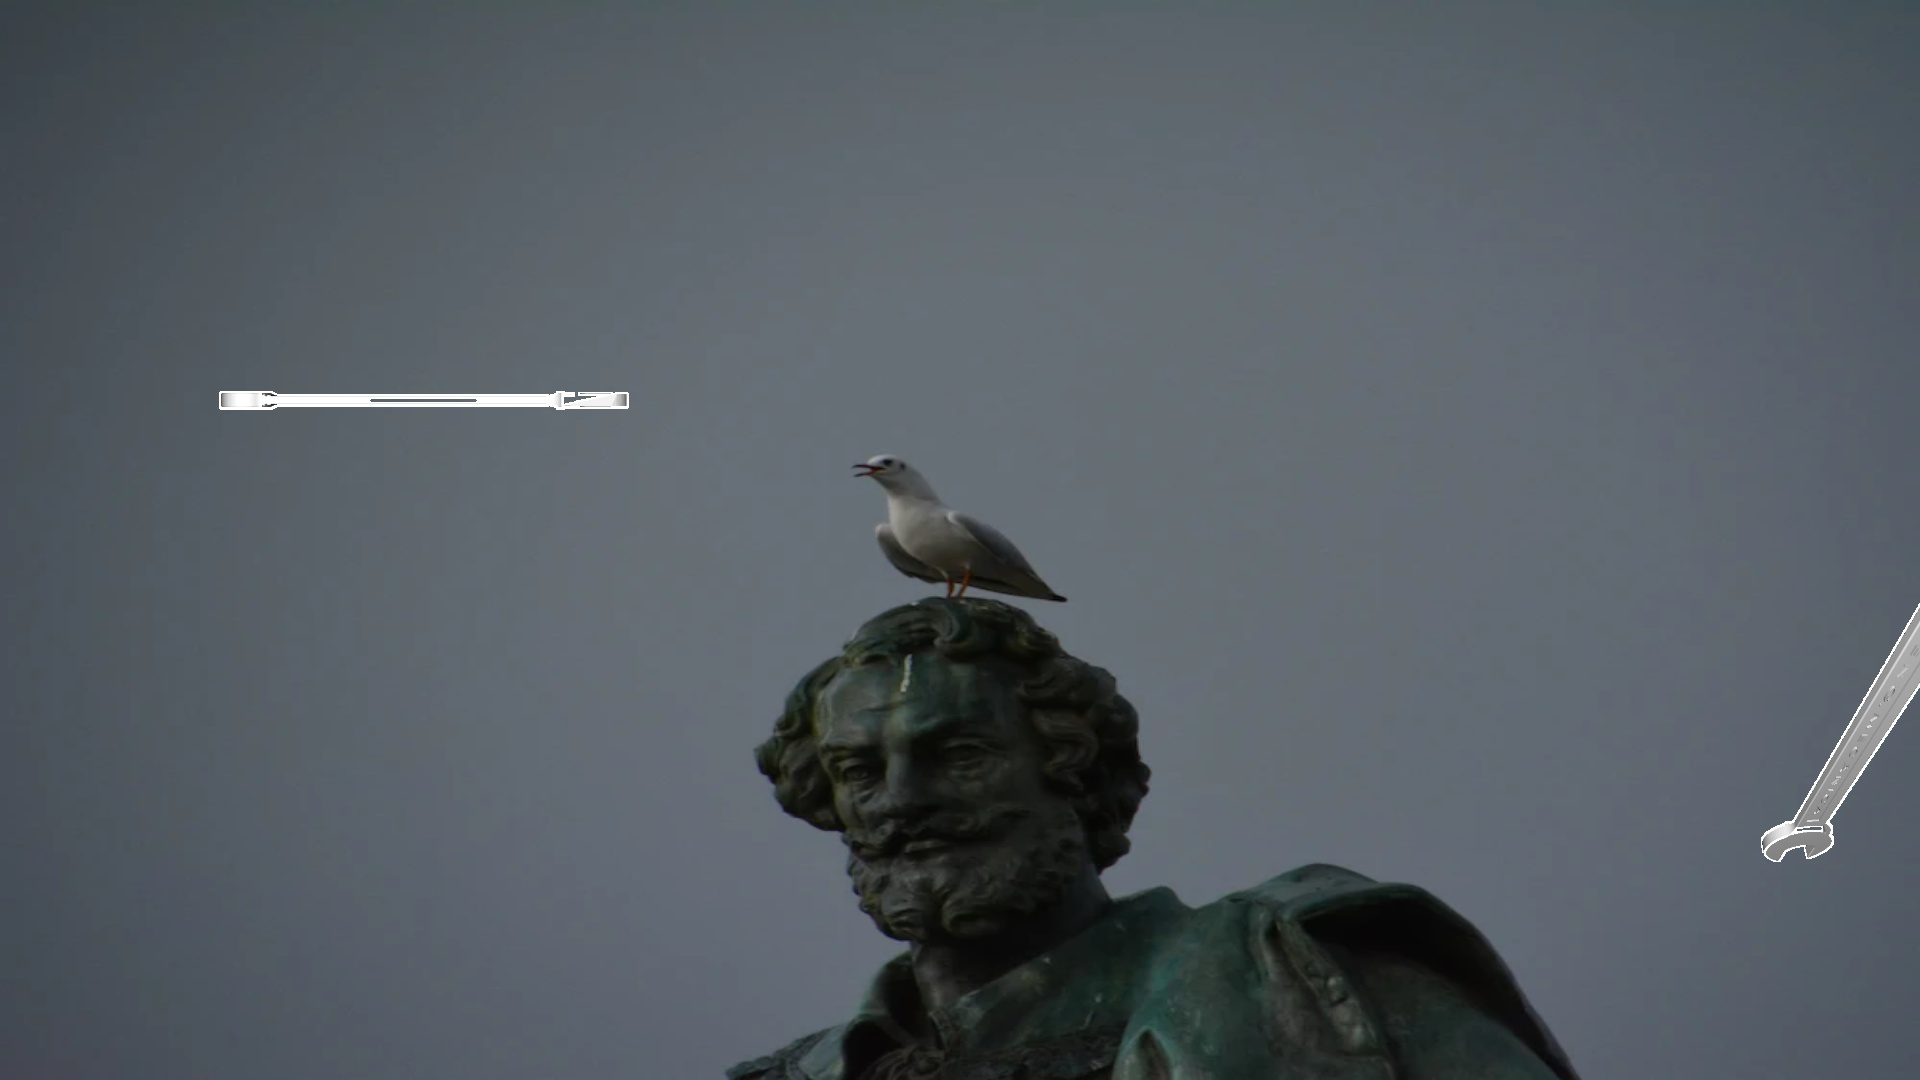Mixed Key: (1760, 603, 1919, 861), (219, 392, 628, 409)
